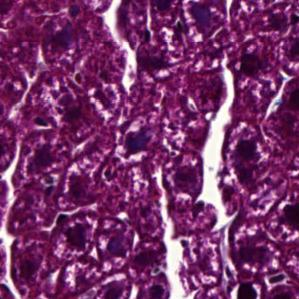inflammation: (226, 123, 272, 182), (114, 116, 156, 169), (52, 213, 99, 258)
